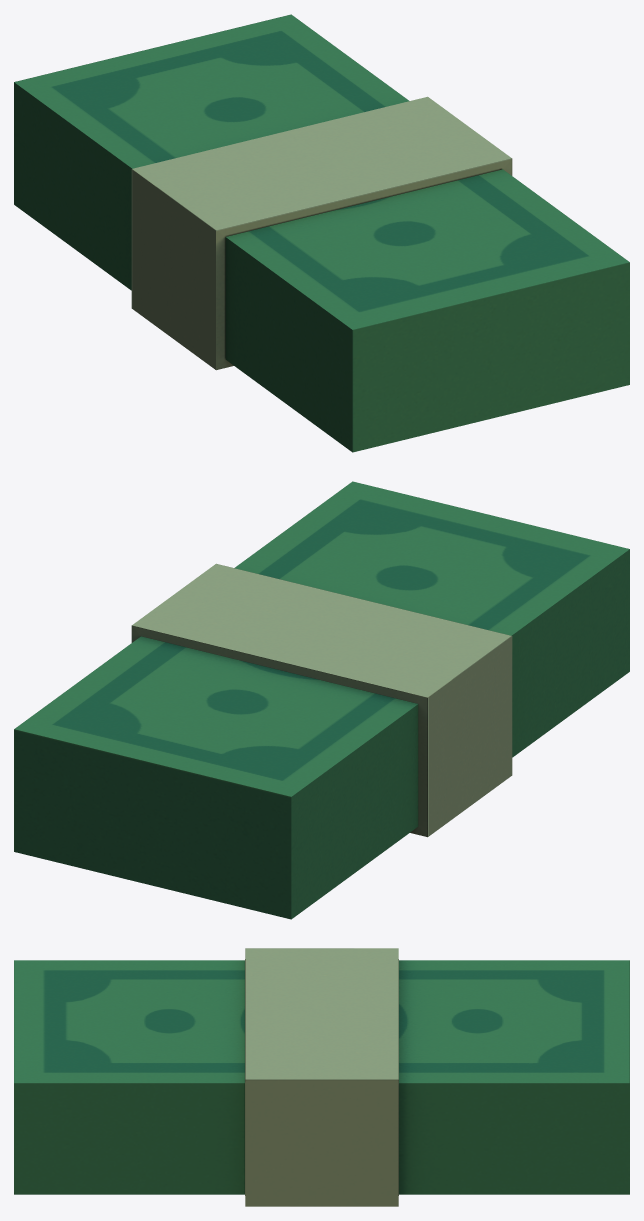
Rendered from Dollar.fbx.
The picture shows the model from 3 angles, top to bottom: view 1: azimuth 30°, elevation 25°; view 2: azimuth 150°, elevation 25°; view 3: azimuth 270°, elevation 25°; orthographic projection. The views are drawn at different scales.
Parts seen in each view (by area): view 1: Dollar; view 2: Dollar; view 3: Dollar.
Boxes of the visible parts, x1,y1,x2,y2 form: Dollar: (14,14,629,452); Dollar: (14,481,629,919); Dollar: (14,948,629,1206).
Bounding box in the file's own units: 0.6061 × 0.2731 × 1.2.
